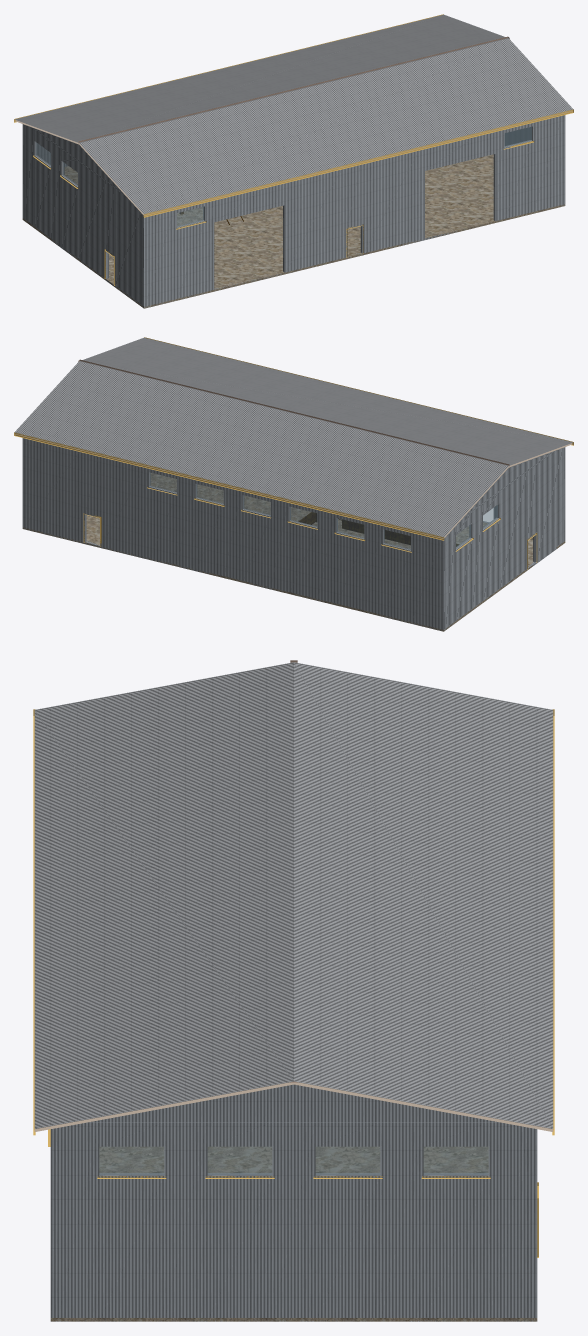
Rendered from port-warehouse.loc-v1.lod1.glb.
3 views of the same model, one above another, from view 1: azimuth 30°, elevation 25°; view 2: azimuth 150°, elevation 25°; view 3: azimuth 270°, elevation 25° (orthographic). The views are drawn at different scales.
Visible parts, largest first — view 1: port-warehouse; view 2: port-warehouse; view 3: port-warehouse.
Boxes of the visible parts, box(x1,y1,x2,y2) form: port-warehouse: box(14, 14, 573, 308); port-warehouse: box(14, 337, 573, 631); port-warehouse: box(33, 660, 554, 1321).
Size of the model in its own units: 36.72 by 10.06 by 19.28.
5 materials, 3 textured.
